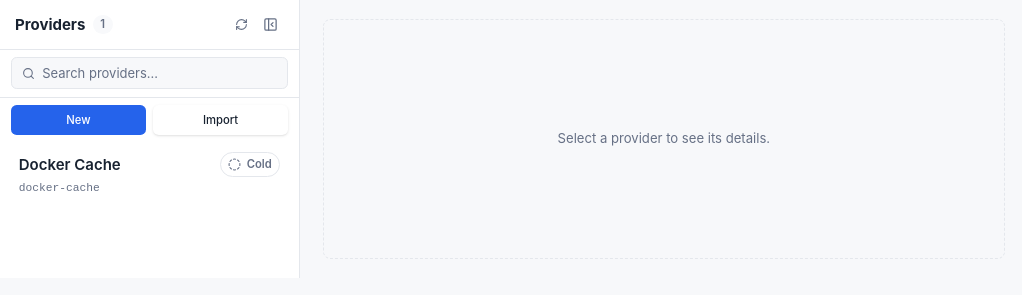
Test: ProvidersPage › shows a cold provider as cold
Click the button "Docker Cache Cold docker-cache" at (70, 164), box left=8, top=143, right=292, bottom=205
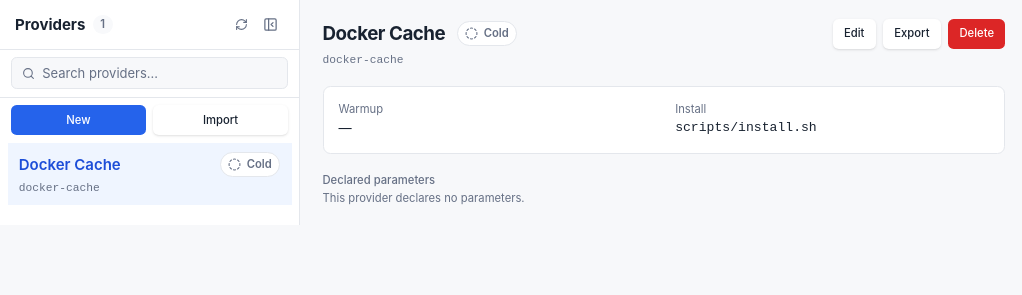
Expected: the 1st text "Cold" is shown, left=456, top=21, right=517, bottom=46
